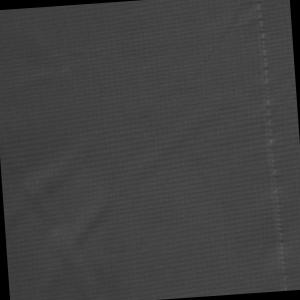Wrinkle: (1, 86, 247, 300), (190, 1, 269, 73)
